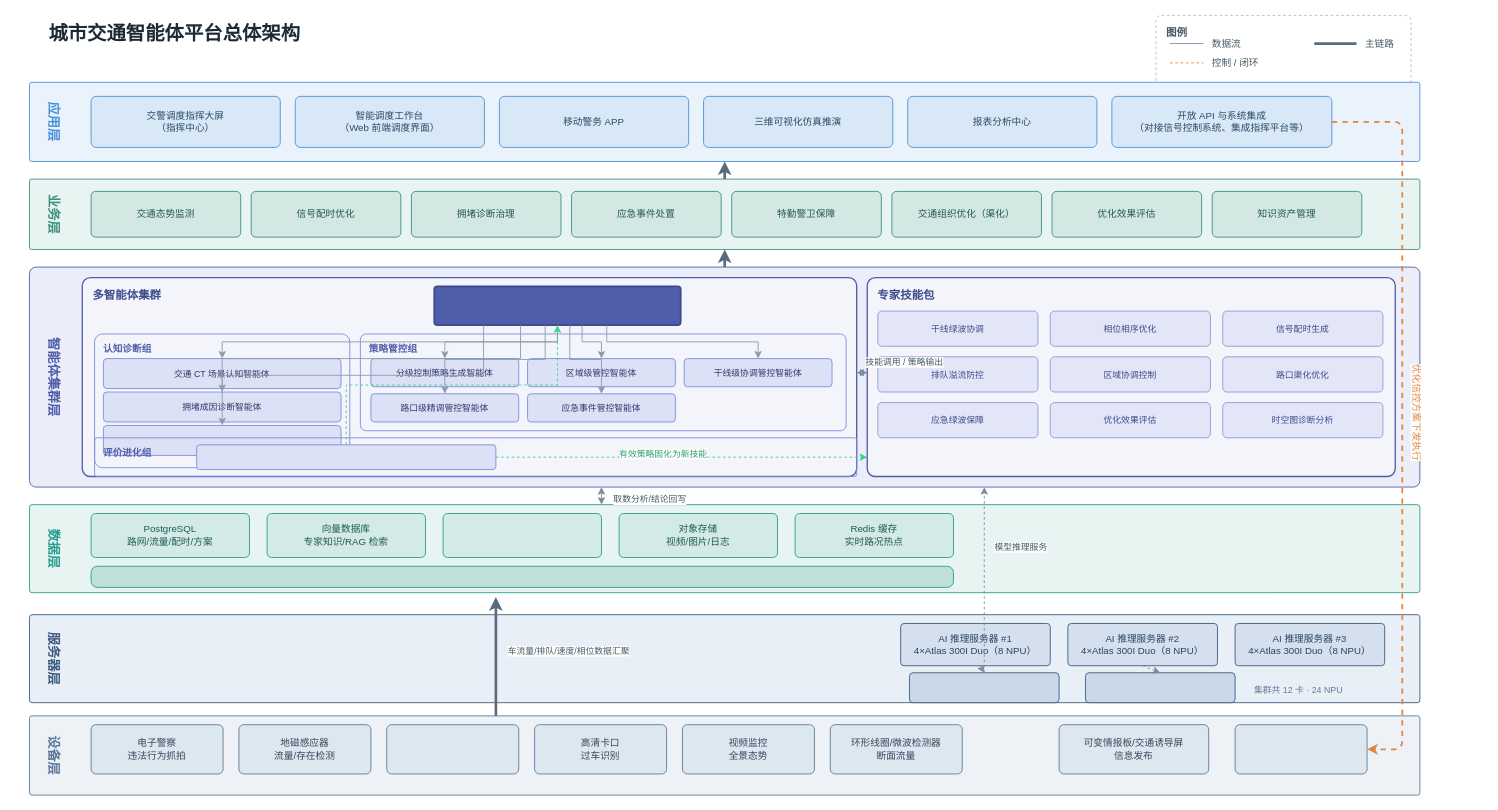
This 1498x810 diagram has some shape labels left out. Each missing label, with the centre of its shape:
Qwen 2B ×3 轻量快速响应: point 1160,687
Qwen 35B ×1 主力深度推理: point 984,687
信号机 相位/配时执行: point 1300,749
信控问题诊断智能体: point 222,440
城市级信控主控调度智能体 （任务编排与分发）: point 557,305
数据接入 · 清洗治理 · 标准化 · 数据服务 API: point 521,576
时序数据库 流量与指标时序: point 521,535
评价反馈与闭环进化智能体: point 346,456
雷视一体机 分车道流量/速度/排队: point 452,749
